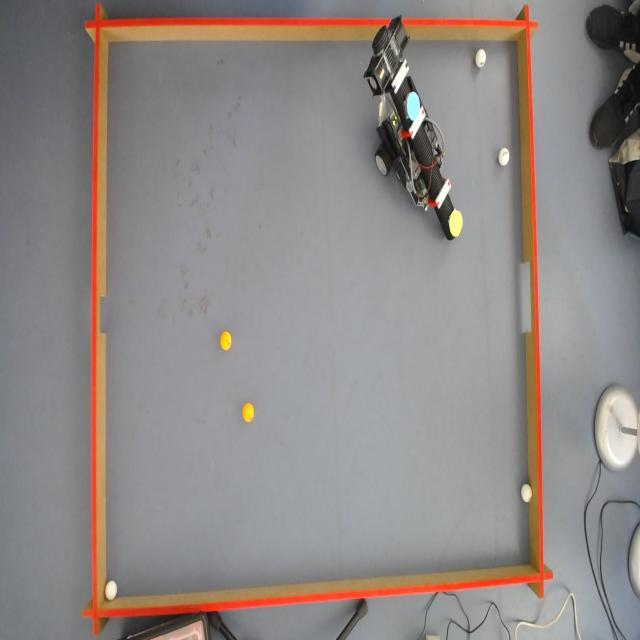orange: (220, 331, 234, 352), (240, 404, 254, 423)
robot: (368, 26, 464, 242)
robot-front: (448, 208, 464, 238)
robot-rear: (403, 90, 422, 121)
white: (104, 580, 118, 602), (476, 48, 488, 70), (498, 148, 511, 166), (521, 484, 532, 504)
